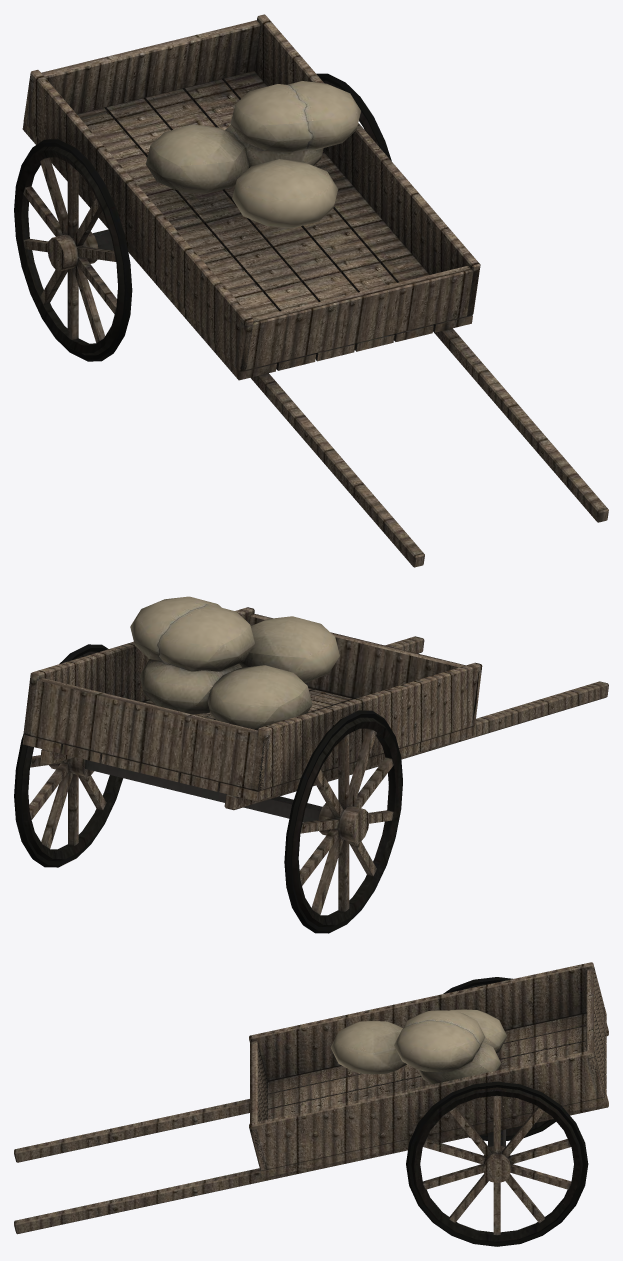
The model's file is hand_cart_sacks.glb.
3 views of the same model, one above another, from view 1: azimuth 30°, elevation 25°; view 2: azimuth 150°, elevation 25°; view 3: azimuth 270°, elevation 25° (orthographic). The views are drawn at different scales.
Parts seen in each view (by area): view 1: hand_cart_sacks; view 2: hand_cart_sacks; view 3: hand_cart_sacks.
Boxes of the visible parts, left/top/right/bottom form: hand_cart_sacks: left=14, top=14, right=608, bottom=567; hand_cart_sacks: left=14, top=596, right=608, bottom=933; hand_cart_sacks: left=14, top=962, right=608, bottom=1246.
Bounding box in the file's own units: 1.42 × 1.11 × 3.03.
1 material, 1 textured.
